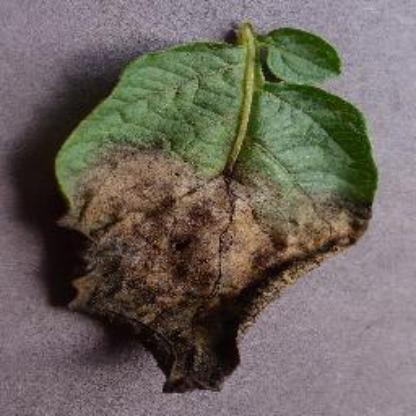Late-Blight: (45, 19, 387, 396)
